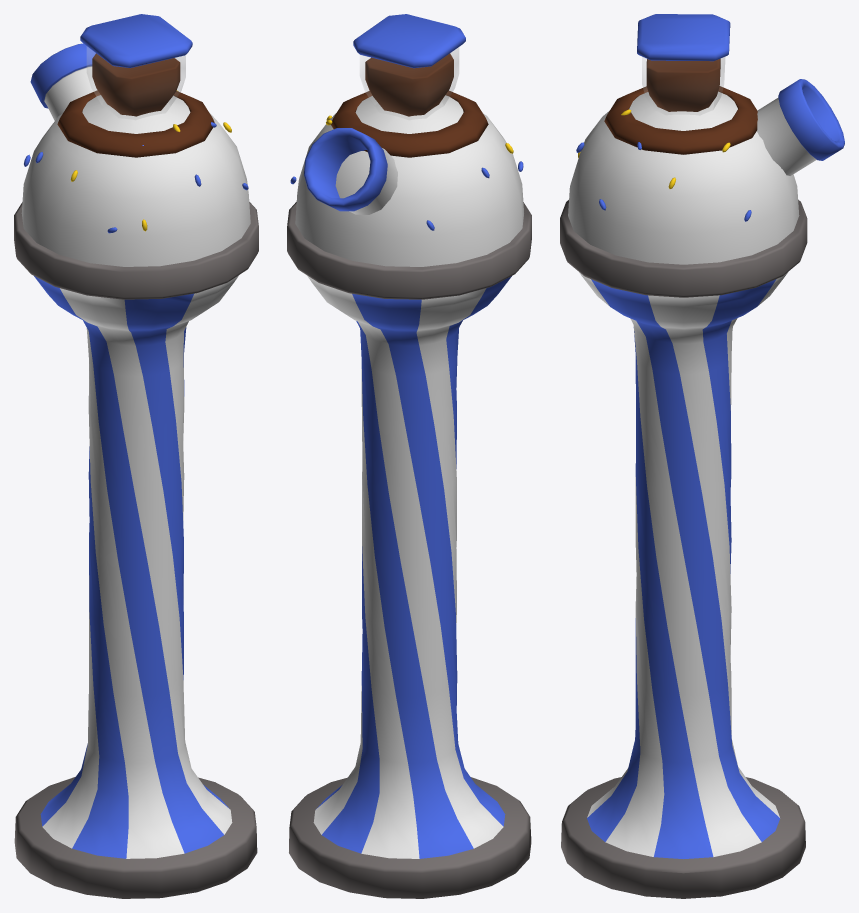
File: Tower_Attack_AOE (4).fbx
3 renders of one model, left to right at view 1: azimuth 30°, elevation 25°; view 2: azimuth 150°, elevation 25°; view 3: azimuth 270°, elevation 25°, orthographic.
Visible parts, largest first — view 1: Cylinder.003, Cube.050, ChocHolder.001, Circle; view 2: Cylinder.003, Cube.050, ChocHolder.001, Circle; view 3: Cylinder.003, Cube.050, ChocHolder.001, Circle.
Part boxes in pixels (x1,y1,x2,y2): Cylinder.003: (14, 202, 258, 898); Cube.050: (21, 43, 250, 266); ChocHolder.001: (80, 14, 192, 119); Circle: (57, 90, 214, 157); Cylinder.003: (287, 202, 531, 898); Cube.050: (290, 95, 523, 266); ChocHolder.001: (353, 14, 465, 119); Circle: (331, 90, 488, 157); Cylinder.003: (560, 199, 807, 898); Cube.050: (568, 79, 844, 264); ChocHolder.001: (637, 14, 730, 114); Circle: (604, 86, 757, 154).
Size of the model in its own units: 82.73 by 302 by 95.42.
